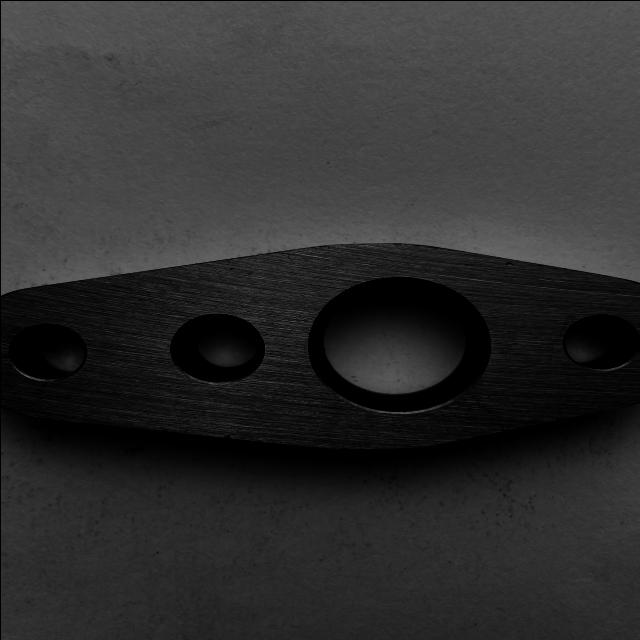chap: (502, 260, 516, 266)
